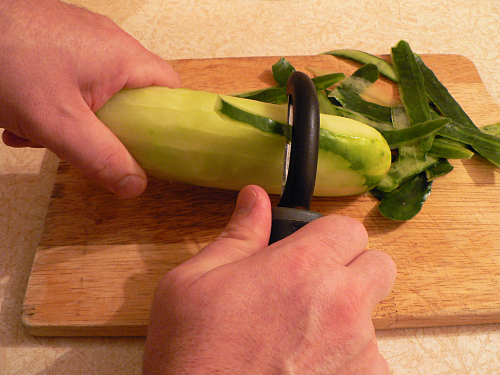cucumber: (94, 85, 392, 198)
